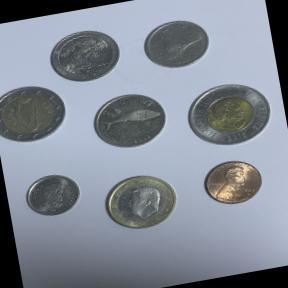coin: (174, 72, 282, 163), (92, 163, 188, 241), (83, 80, 176, 159), (42, 21, 125, 88), (0, 77, 71, 150), (193, 148, 272, 213), (18, 166, 89, 225)
